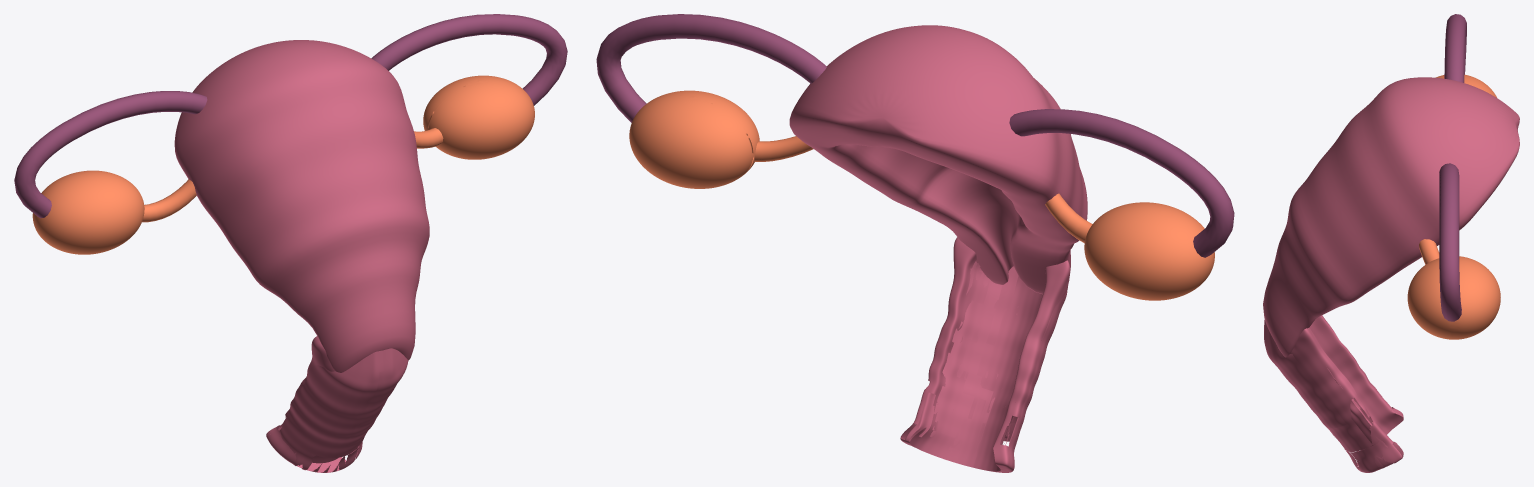
The model's file is reproductive.glb.
3 renders of one model, left to right at view 1: azimuth 30°, elevation 25°; view 2: azimuth 150°, elevation 25°; view 3: azimuth 270°, elevation 25°, orthographic. The views are drawn at different scales.
Parts seen in each view (by area): view 1: Utero_D, Ovarios, Utero_A, TrompaIzquierda, TrompaDerecha, Utero_B, LigamentoUterino_A; view 2: Utero_D, Ovarios, Utero_A, Utero_B, TrompaIzquierda, TrompaDerecha, Utero_C, LigamentoUterino_B, LigamentoUterino_A; view 3: Utero_D, Ovarios, Utero_A, Utero_B, TrompaIzquierda, Utero_C, TrompaDerecha, LigamentoUterino_B.
Boxes of the visible parts, x1,y1,x2,y2 form: Utero_D: [174, 40, 429, 372]; Ovarios: [32, 75, 534, 254]; Utero_A: [279, 350, 383, 470]; TrompaIzquierda: [371, 14, 567, 105]; TrompaDerecha: [14, 91, 207, 218]; Utero_B: [267, 336, 408, 472]; LigamentoUterino_A: [142, 179, 196, 222]; Utero_D: [789, 25, 1087, 294]; Ovarios: [629, 90, 1214, 300]; Utero_A: [900, 237, 1067, 471]; Utero_B: [905, 260, 1070, 472]; TrompaIzquierda: [596, 14, 826, 122]; TrompaDerecha: [1009, 109, 1234, 257]; Utero_C: [909, 260, 1067, 471]; LigamentoUterino_B: [754, 136, 813, 161]; LigamentoUterino_A: [1045, 193, 1092, 243]; Utero_D: [1263, 77, 1519, 357]; Ovarios: [1407, 74, 1500, 339]; Utero_A: [1264, 320, 1403, 470]; Utero_B: [1264, 315, 1403, 472]; TrompaIzquierda: [1439, 163, 1461, 321]; Utero_C: [1279, 315, 1403, 472]; TrompaDerecha: [1444, 14, 1466, 82]; LigamentoUterino_B: [1419, 239, 1439, 264].
Size of the model in its own units: 0.1749 by 0.1201 by 0.0742.
